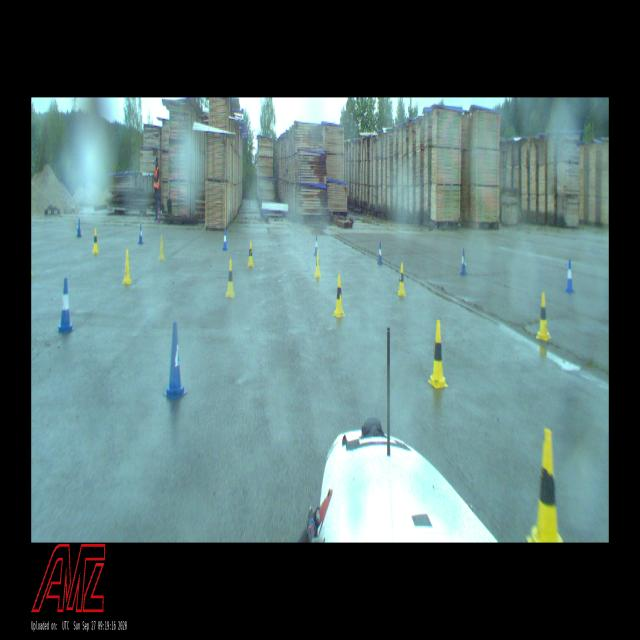blue_cone: (163, 322, 187, 399), (56, 278, 75, 333), (565, 260, 574, 292), (460, 248, 468, 276), (222, 229, 228, 250), (76, 218, 82, 237), (138, 224, 143, 244), (378, 242, 382, 264), (314, 235, 318, 256)
yellow_cone: (526, 428, 564, 542), (428, 320, 448, 389), (536, 293, 551, 341), (333, 274, 345, 317), (225, 259, 236, 298), (122, 249, 132, 285), (398, 262, 406, 296), (314, 250, 321, 278), (92, 228, 99, 254), (158, 235, 165, 260), (248, 241, 254, 267)
